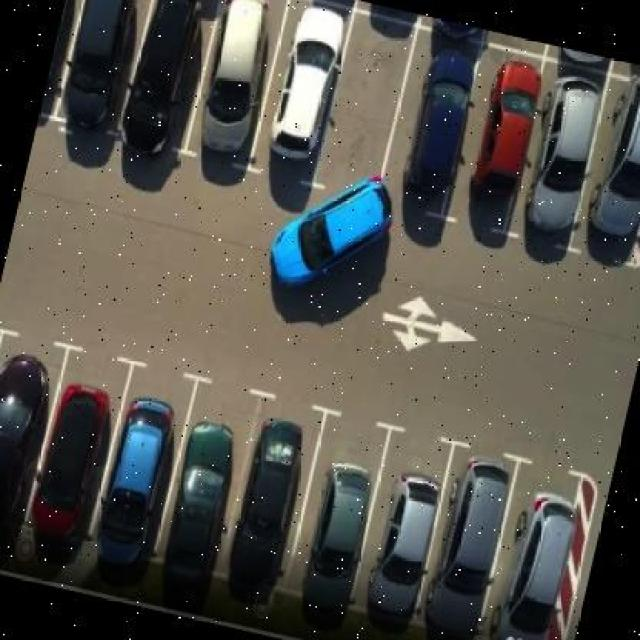Car: (418, 442, 529, 640), (83, 383, 190, 583), (21, 369, 123, 560), (264, 164, 398, 301), (484, 473, 587, 640), (155, 403, 241, 601), (220, 415, 309, 602), (352, 461, 443, 633), (294, 449, 380, 627), (191, 1, 280, 172), (518, 62, 604, 235), (393, 35, 489, 187), (266, 6, 357, 166), (112, 1, 210, 146), (61, 1, 144, 149), (470, 55, 547, 212), (1, 346, 55, 558), (585, 71, 640, 264)
Empty: (317, 10, 420, 190)
